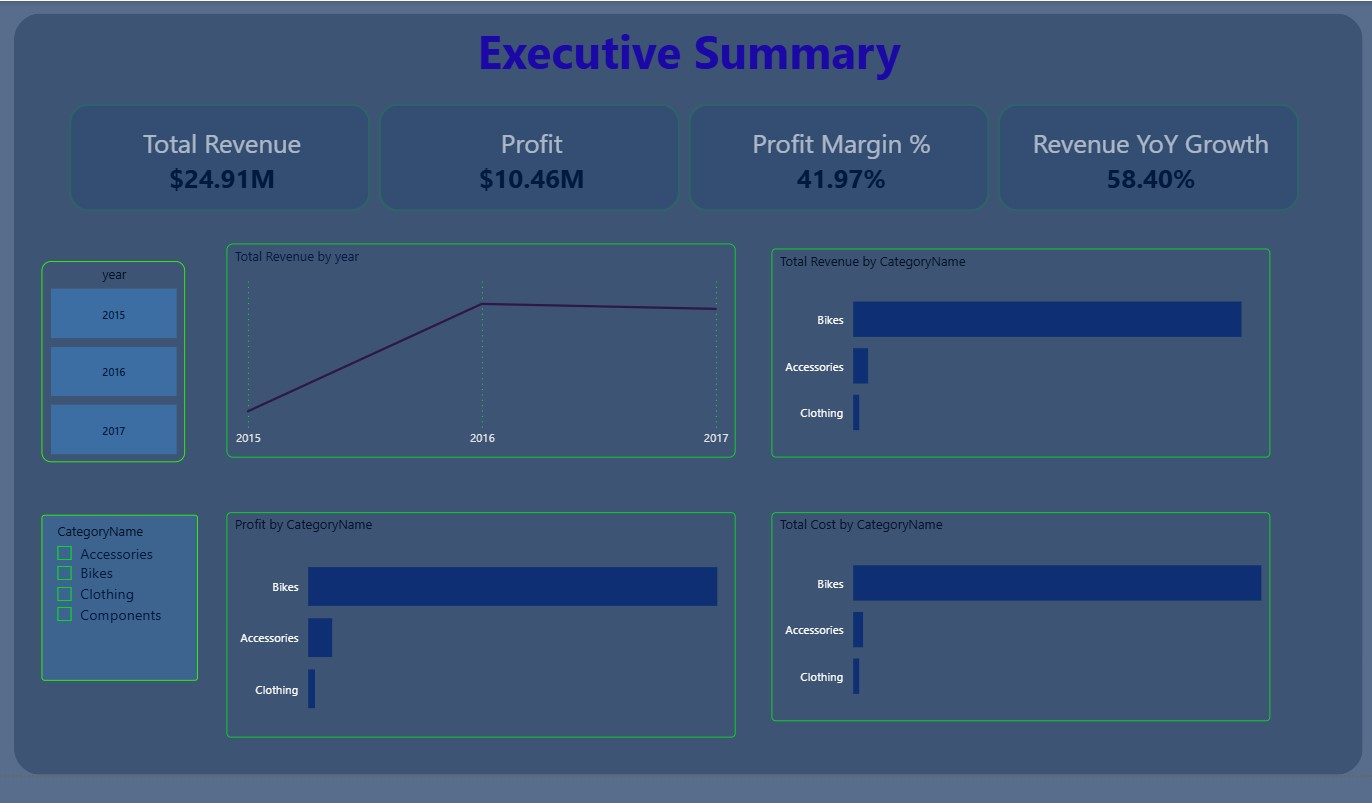

The page's visual inventory and layout, read from the dashboard file:
{"tool":"powerbi","page":{"name":"Sales Overview","canvas":[1280,720],"ordinal":0},"visuals":[{"type":"shape","box":[14,11.6,1254.7,708.1],"z":0},{"type":"cardVisual","fields":{"Data":["_measures.Total Revenue","_measures.Profit","_measures.Profit Margin %","_measures.Revenue YoY Growth"]},"box":[170,98.6,1020.9,111],"z":1000},{"type":"lineChart","fields":{"Y":["_measures.Total Revenue"],"Category":["Dim_Date.year"]},"box":[211.8,225.3,473.3,198.8],"z":2000},{"type":"advancedSlicerVisual","fields":{"Values":["Dim_Date.year"]},"box":[40,241.9,133.7,187.2],"z":3000},{"type":"clusteredBarChart","fields":{"Category":["Products.CategoryName"],"Y":["_measures.Total Revenue"]},"box":[718.8,230,464,194.2],"z":4000},{"type":"clusteredBarChart","fields":{"Category":["Products.CategoryName"],"Y":["_measures.Profit"]},"box":[211.6,475.6,473.3,209.3],"z":5000},{"type":"clusteredBarChart","fields":{"Category":["Products.CategoryName"],"Y":["_measures.Total Cost"]},"box":[718.8,475.4,464,194.2],"z":6000},{"type":"slicer","fields":{"Values":["Products.CategoryName"]},"box":[39.8,477.7,145.3,154.7],"z":7000},{"type":"textbox","box":[126.7,11.6,1030.2,79.1],"z":8000}]}

Visuals, with their boxes on the page's 1280x720 design canvas (x1, y1, x2, y2). These are canvas units, not pixel positions in the 1372x803 screenshot, which may show the page scaled, cropped or inside an application window:
shape: box=[14, 12, 1269, 720]
cardVisual - _measures.Total Revenue x _measures.Profit: box=[170, 99, 1191, 210]
lineChart - _measures.Total Revenue x Dim_Date.year: box=[212, 225, 685, 424]
advancedSlicerVisual - Dim_Date.year: box=[40, 242, 174, 429]
clusteredBarChart - Products.CategoryName x _measures.Total Revenue: box=[719, 230, 1183, 424]
clusteredBarChart - Products.CategoryName x _measures.Profit: box=[212, 476, 685, 685]
clusteredBarChart - Products.CategoryName x _measures.Total Cost: box=[719, 475, 1183, 670]
slicer - Products.CategoryName: box=[40, 478, 185, 632]
textbox: box=[127, 12, 1157, 91]
